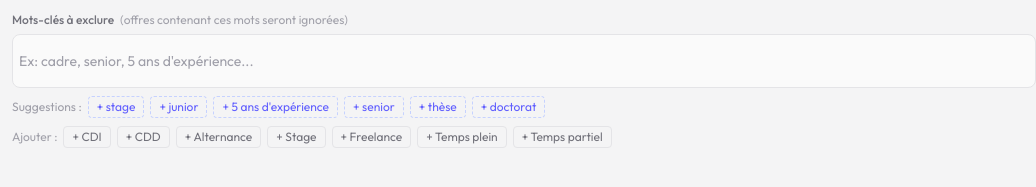
StepMotsClesExclus › clears the error after a valid change following a blocked add
Type "data scientist" into the field. click: point(524, 61)
box: [19, 41, 1029, 81]
Then press Enter
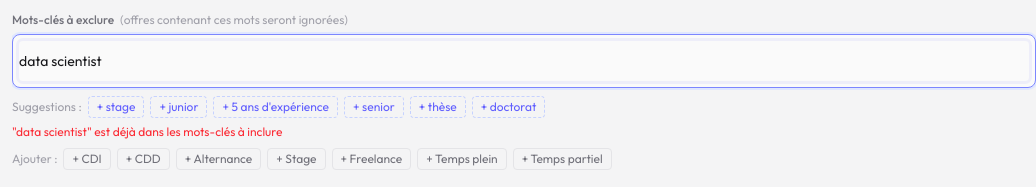
Now the text "\"data scientist\" est déjà dans les mots-clés à inclure" is shown, box [12, 124, 282, 139]
Replace the text in the field with "senior". click: point(524, 61)
box: [19, 41, 1029, 81]
Then press Enter
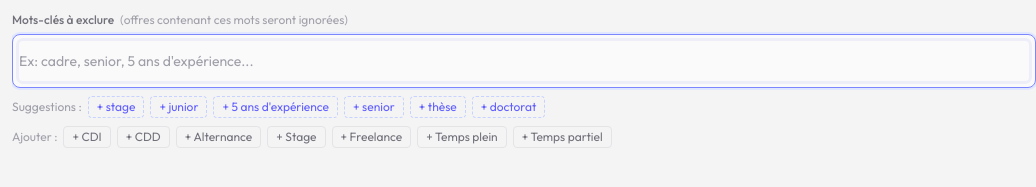
Now the text "déjà dans les mots-clés à inclure" is gone
